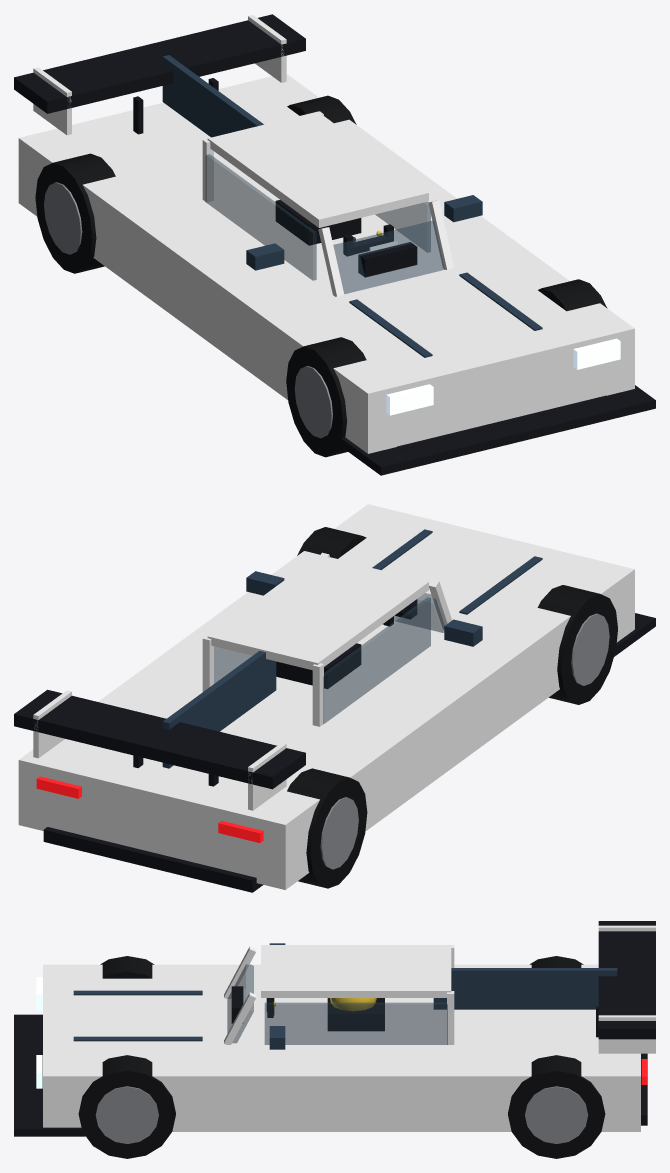
Rendered from lmp2.glb.
3 renders of one model, top to bottom at view 1: azimuth 30°, elevation 25°; view 2: azimuth 150°, elevation 25°; view 3: azimuth 270°, elevation 25°, orthographic. The views are drawn at different scales.
Parts seen in each view (by area): view 1: body, roof, rear-wing, splitter, side-window--1, tyre--1--1, windscreen, tyre--1-1, shark-fin, rim--1--1, rim--1-1, seat (+16 smaller); view 2: body, roof, rear-wing, side-window--1, shark-fin, tyre--1--1, tyre--1-1, floor, rim--1-1, rim--1--1, seat, tyre-1-1 (+13 smaller); view 3: body, roof, side-window-1, shark-fin, rear-wing, tyre-1--1, tyre-1-1, splitter, rim-1--1, rim-1-1, seat, wing-endplate-1 (+13 smaller).
Part boxes in pixels (x1,y1,x2,y2): body: [18, 74, 634, 453]; roof: [207, 111, 428, 227]; rear-wing: [14, 14, 305, 113]; splitter: [339, 385, 655, 475]; side-window--1: [205, 154, 316, 280]; tyre--1--1: [35, 153, 115, 273]; windscreen: [333, 221, 444, 293]; tyre--1-1: [286, 337, 366, 457]; shark-fin: [162, 55, 263, 137]; rim--1--1: [44, 182, 82, 254]; rim--1-1: [294, 366, 332, 438]; seat: [275, 200, 361, 245]; body: [18, 504, 634, 889]; roof: [207, 555, 428, 670]; rear-wing: [14, 689, 305, 789]; side-window--1: [323, 597, 430, 723]; shark-fin: [162, 650, 276, 768]; tyre--1--1: [287, 768, 367, 888]; tyre--1-1: [537, 585, 617, 704]; floor: [43, 827, 263, 892]; rim--1-1: [571, 613, 609, 685]; rim--1--1: [320, 797, 358, 869]; seat: [276, 643, 361, 688]; tyre-1-1: [297, 527, 366, 558]; body: [43, 964, 640, 1131]; roof: [261, 945, 451, 997]; side-window-1: [264, 1002, 447, 1044]; shark-fin: [433, 968, 617, 1009]; rear-wing: [598, 921, 655, 1039]; tyre-1--1: [508, 1055, 605, 1158]; tyre-1-1: [78, 1055, 175, 1158]; splitter: [14, 1014, 85, 1136]; rim-1--1: [525, 1086, 588, 1143]; rim-1-1: [95, 1086, 158, 1143]; seat: [327, 998, 384, 1031]; wing-endplate-1: [598, 1015, 655, 1053].
Size of the model in its own units: 1.92 by 1.03 by 4.49.
